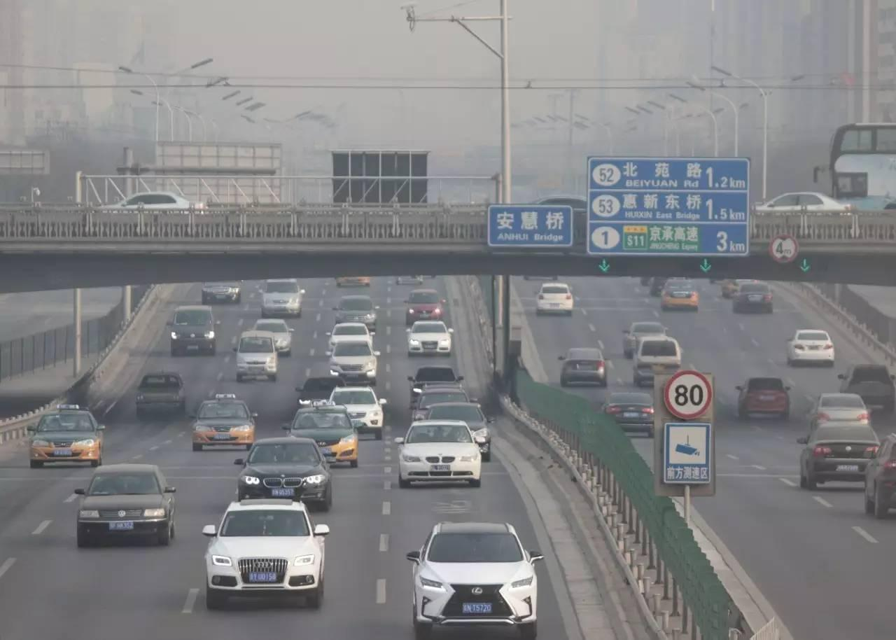bus: (813, 122, 896, 225)
car: (406, 521, 545, 640), (201, 498, 330, 611), (73, 463, 177, 548), (233, 436, 338, 513), (395, 418, 487, 488), (796, 420, 885, 491), (281, 399, 365, 468), (26, 404, 106, 469), (414, 402, 495, 462), (95, 191, 210, 228), (188, 393, 258, 452), (749, 191, 854, 229), (516, 195, 613, 232), (326, 384, 388, 440), (409, 382, 480, 428), (631, 334, 685, 389), (166, 305, 222, 357), (809, 393, 872, 438), (597, 392, 658, 438), (325, 339, 382, 388), (864, 432, 896, 519), (837, 362, 896, 407), (406, 365, 465, 410), (134, 367, 187, 417), (232, 329, 281, 383), (734, 376, 793, 420), (557, 347, 611, 389), (258, 276, 307, 321), (295, 376, 348, 414), (785, 329, 836, 368), (325, 322, 377, 358), (331, 294, 380, 332), (404, 320, 454, 357), (251, 318, 295, 358), (622, 321, 668, 359), (403, 288, 447, 326), (657, 276, 700, 312), (200, 270, 244, 304), (533, 282, 574, 316), (732, 282, 775, 314), (332, 257, 372, 287)
